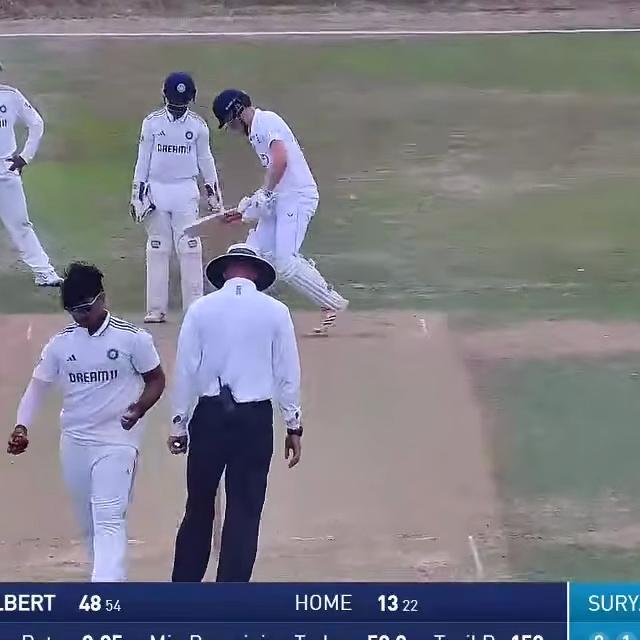umpire: (158, 242, 312, 582)
